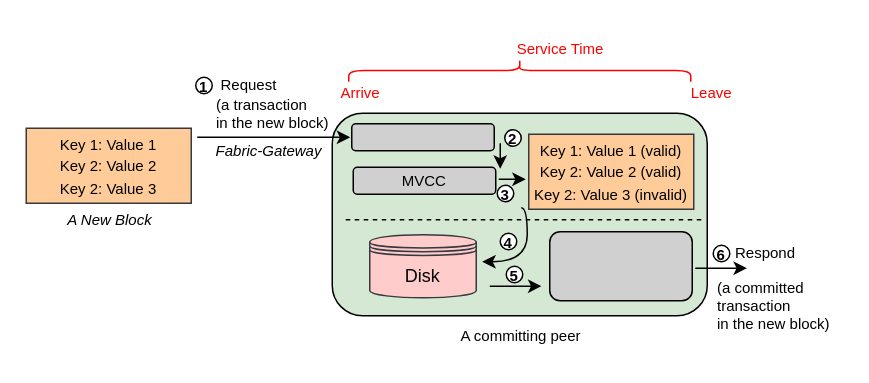
The diagram is 869 pixels wide and 383 high, and some of its shapes have lost their labels. The shapes that lost their labels are listed below. From the top down, each one's centre as x and y in pixels, then its label:
At (422,136): "VSCC".
At (620,265): "Commit".
